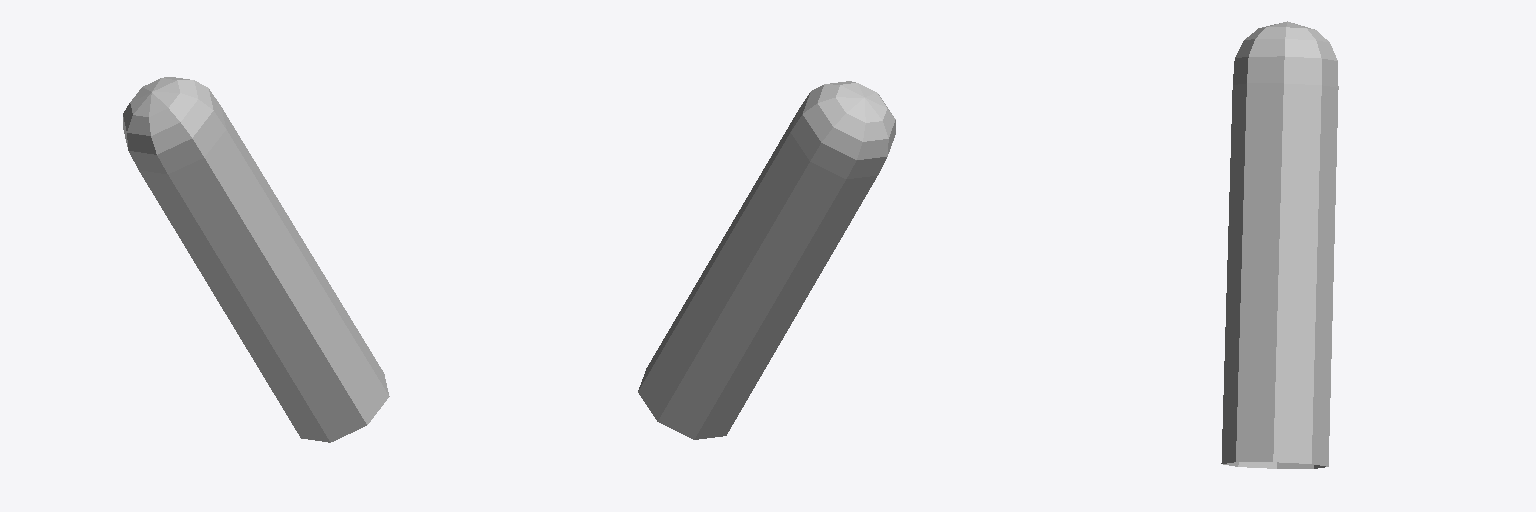
The model's file is rightantenna.obj.
3 views of the same model, side by side, from view 1: azimuth 30°, elevation 25°; view 2: azimuth 150°, elevation 25°; view 3: azimuth 270°, elevation 25° (orthographic).
Parts seen in each view (by area): view 1: polySurface17 polySurface4 polySurface2 AndroidRobot:Mesh; view 2: polySurface17 polySurface4 polySurface2 AndroidRobot:Mesh; view 3: polySurface17 polySurface4 polySurface2 AndroidRobot:Mesh.
Boxes of the visible parts, box(x1,y1,x2,y2) form: polySurface17 polySurface4 polySurface2 AndroidRobot:Mesh: box(123, 77, 389, 442); polySurface17 polySurface4 polySurface2 AndroidRobot:Mesh: box(638, 81, 895, 439); polySurface17 polySurface4 polySurface2 AndroidRobot:Mesh: box(1221, 21, 1338, 468).
Bounding box in the file's own units: 0.2733 × 0.4013 × 0.111.